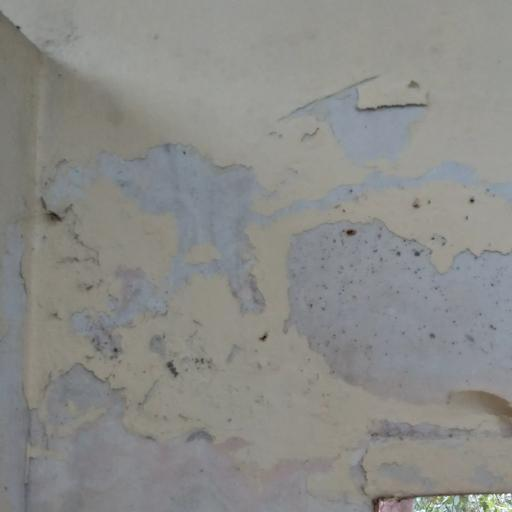peeling: (1, 359, 512, 512), (40, 131, 278, 360), (271, 199, 512, 409), (267, 51, 512, 222), (0, 179, 50, 512)
